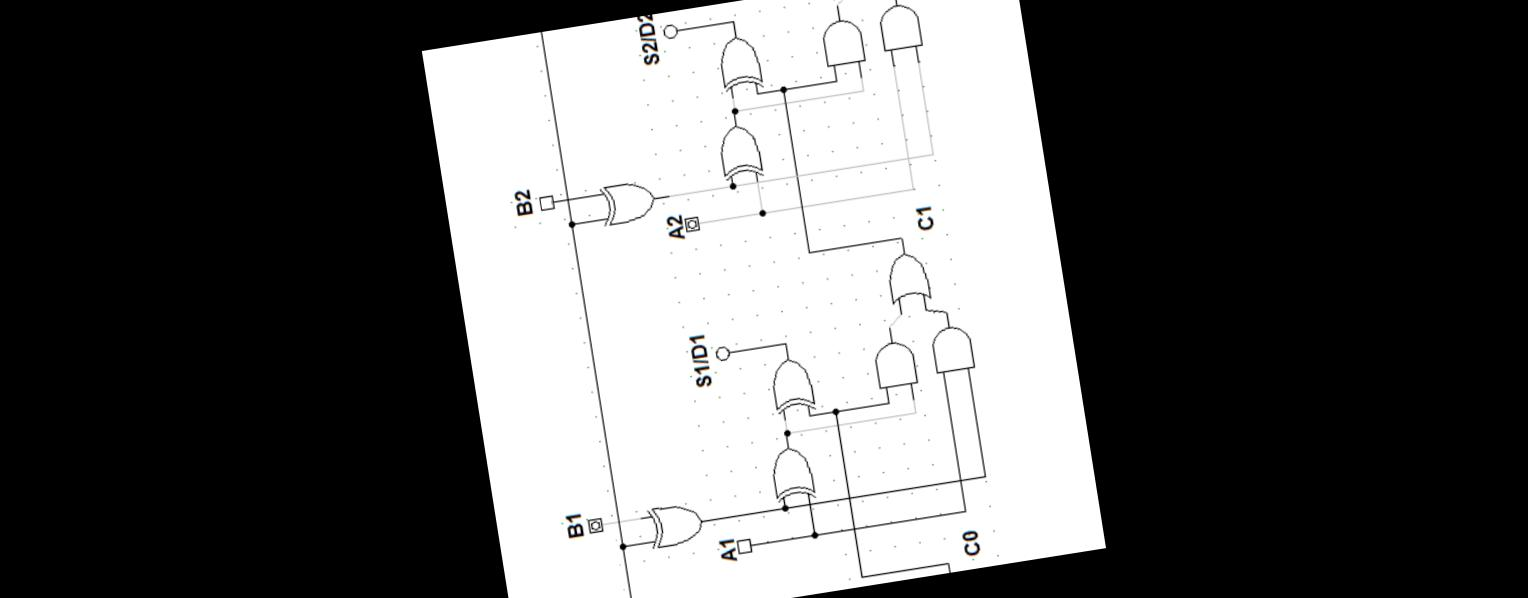and: (866, 329, 925, 400), (812, 9, 871, 77), (868, 0, 933, 60), (925, 318, 983, 382)
or: (878, 242, 938, 310)
xor: (631, 466, 714, 564), (588, 162, 668, 236), (758, 342, 828, 423), (703, 116, 770, 182), (704, 28, 771, 94), (758, 441, 822, 506)
